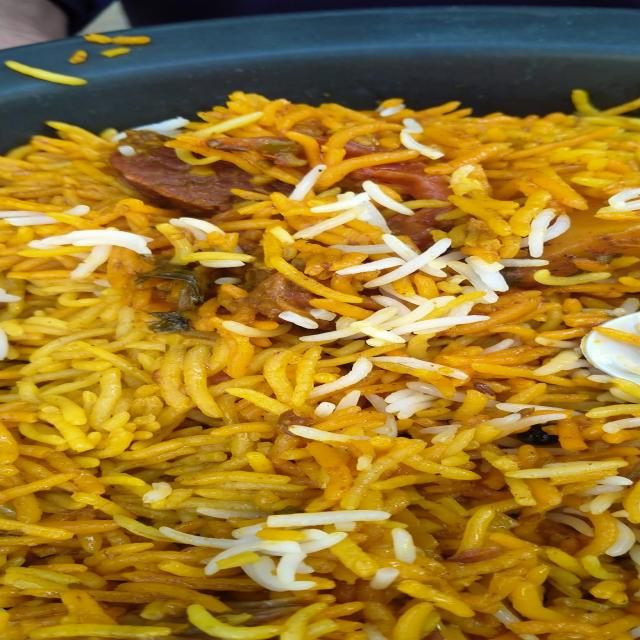Biryani: (0, 86, 640, 637)
